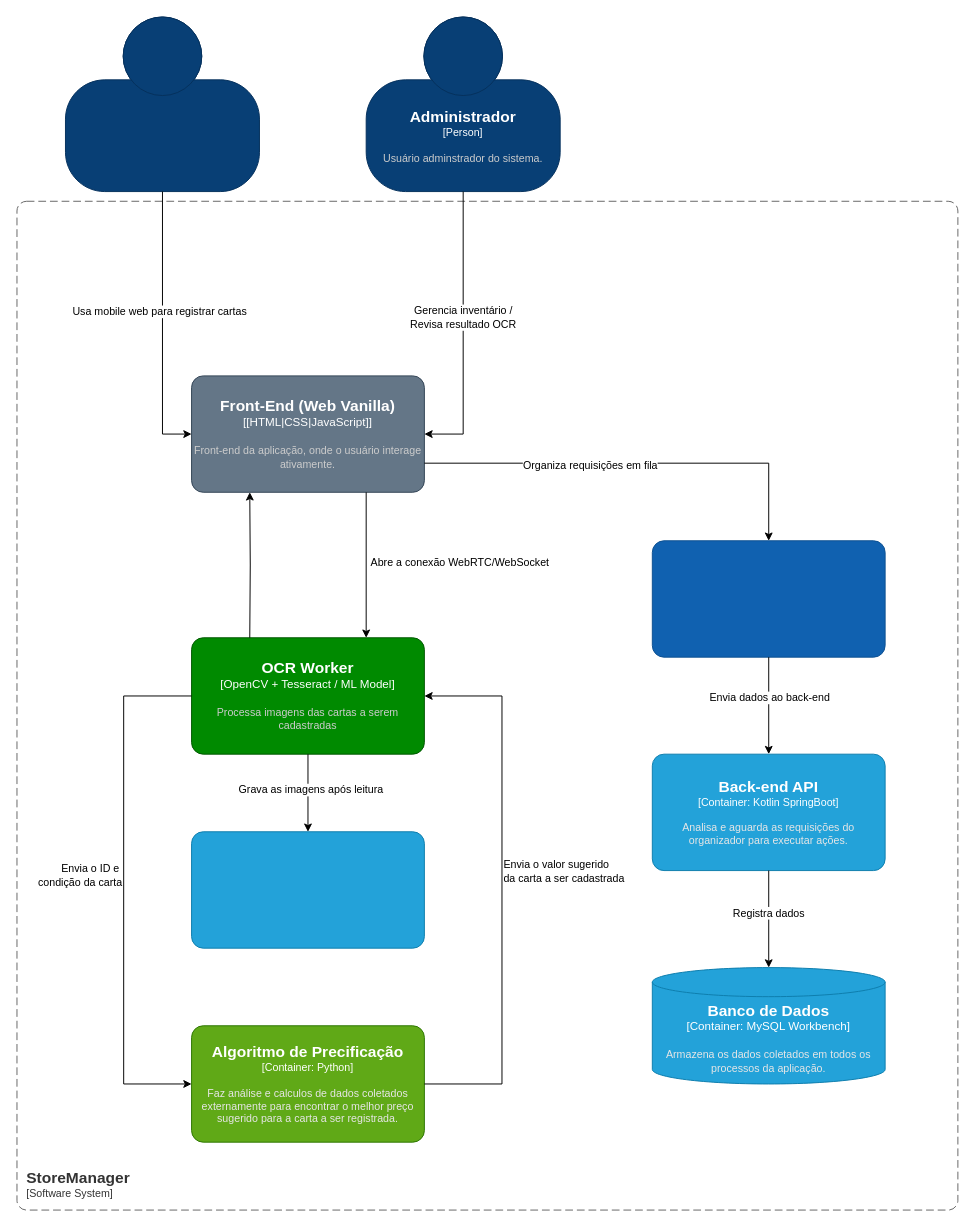
Image size: 975x1227. Some labels were removed from this diagram. Each missing label, with the centre of its shape:
Apache Kafka [Software System] Gerencia as filas de cadastro: (768,598)
Object Storage S3 [: ] Máquina virtual em nuvem AWS: (307,889)
Scanner [System] Desktop Web ou Mobile Web: (162,104)
